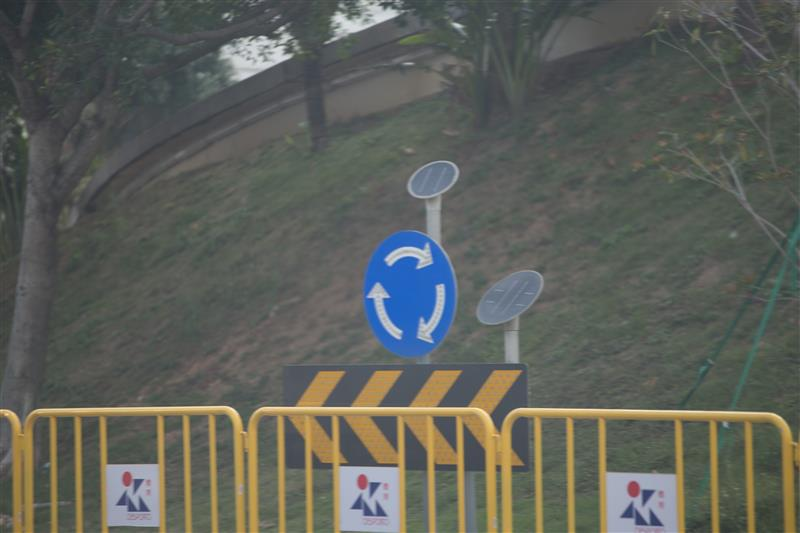roundabout: (365, 230, 459, 353)
